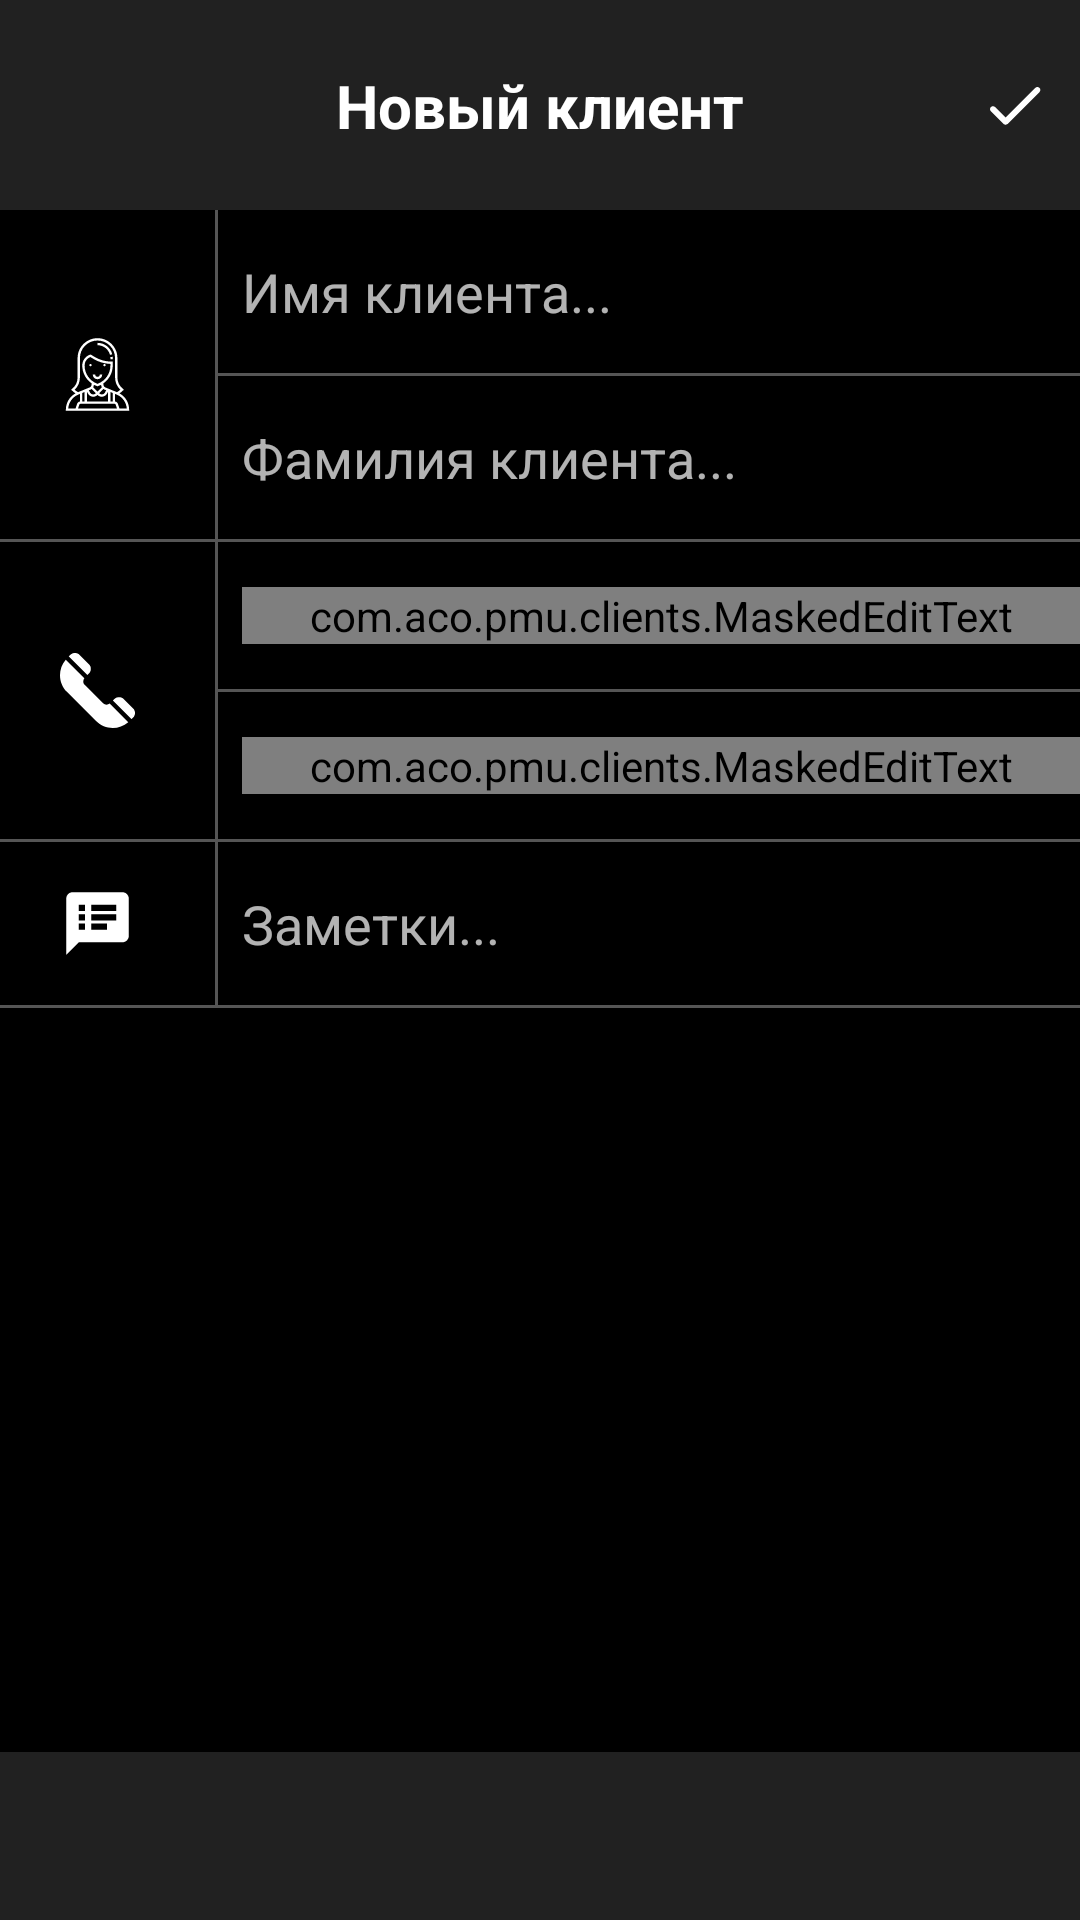

Point at icon controls on the screen. Image size 1080w x 1920h, points as point (x, y).
done: point (1015, 106)
face: point (97, 374)
phone: point (97, 690)
remarks: point (97, 923)
